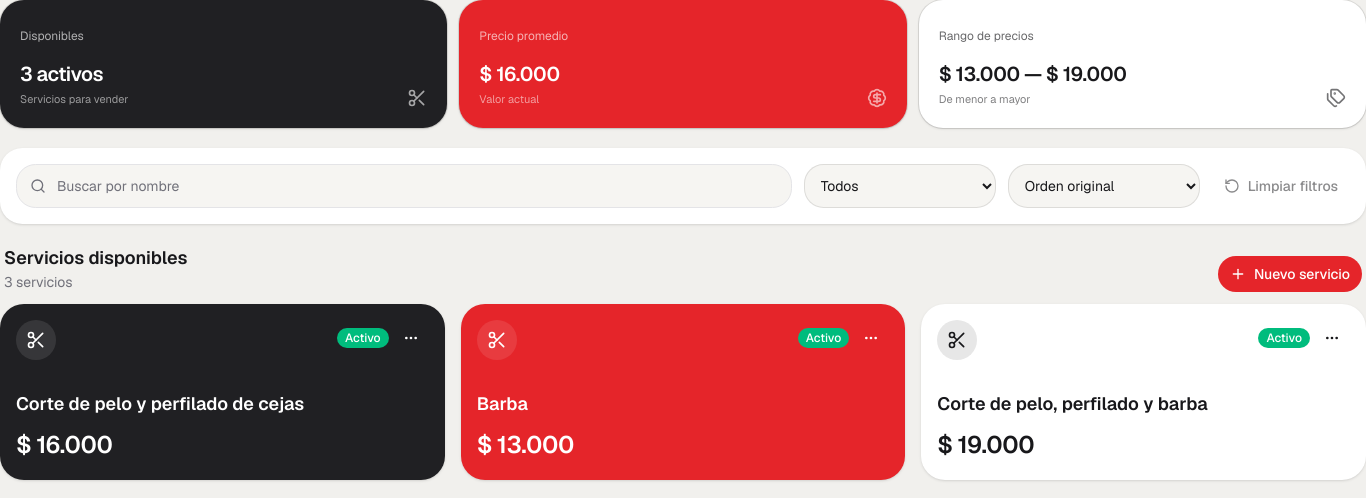
searches, sorts and clears the visual catalog
In the search field named "Buscar servicios": coordinates (404, 186) [16,164,792,208], type "barba"
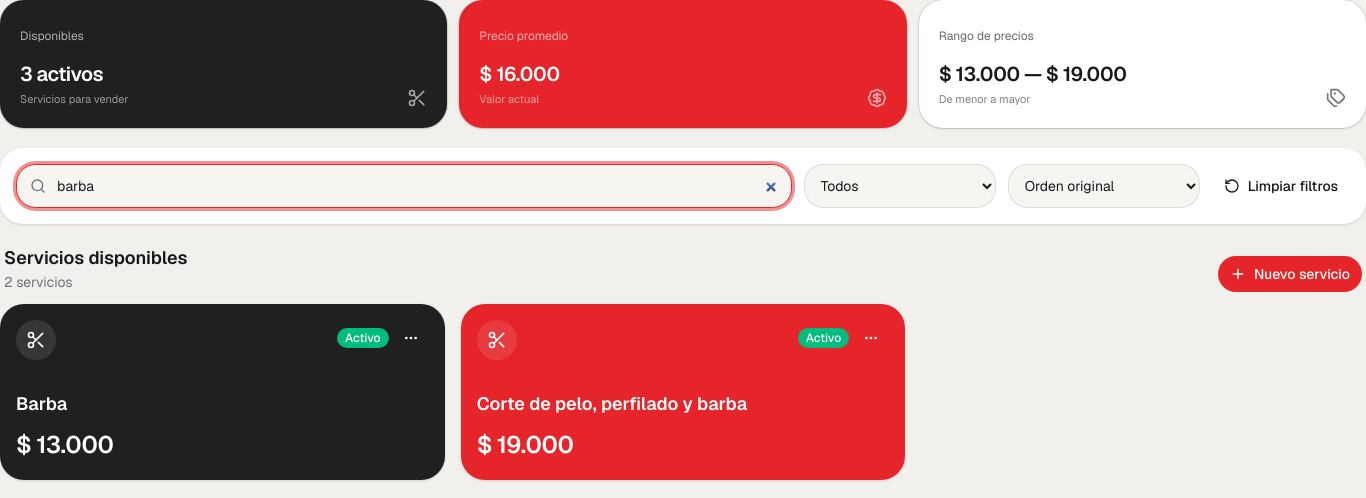
Expected: the number of list items is 2, [0,304,445,480]; [461,304,905,480]
Select "Menor precio" in the dropdown named "Ordenar servicios": coordinates (1104, 186) [1008,164,1200,208]
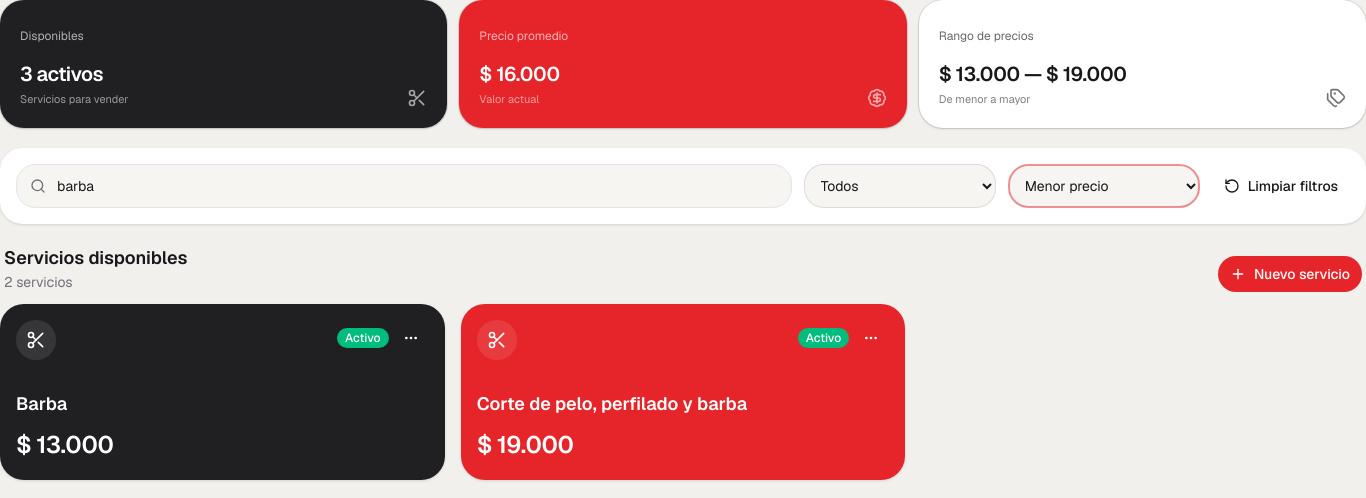
Click the button "Limpiar filtros": coordinates (1281, 186) [1212,164,1350,208]
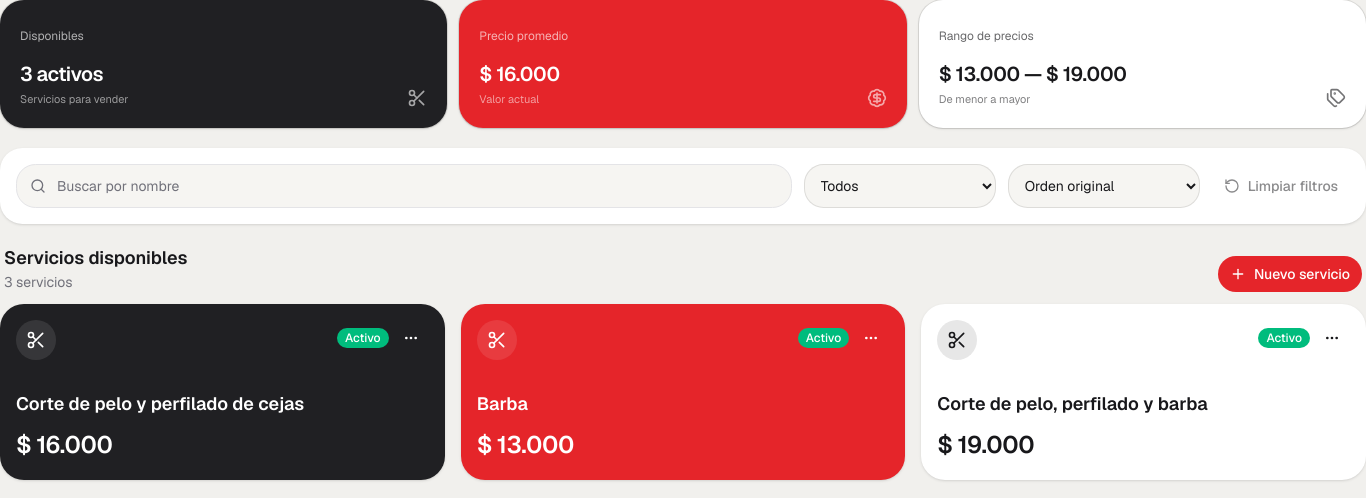
Expected: the number of list items is 3, [0,304,445,480]; [461,304,905,480]; [921,304,1365,480]
